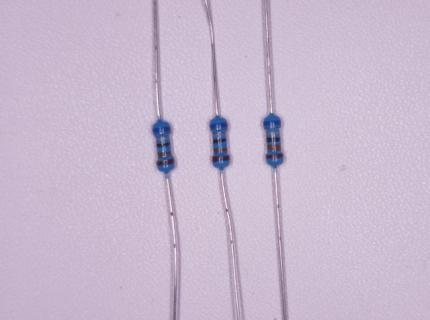Black band: (157, 142, 171, 148), (212, 138, 226, 143), (267, 137, 280, 142)
Blue band: (153, 125, 170, 132), (263, 120, 281, 125), (210, 123, 227, 128)
Brown band: (157, 157, 174, 165), (212, 155, 230, 162), (266, 153, 284, 159)
Grey band: (157, 136, 170, 141), (267, 131, 280, 136), (213, 133, 226, 136)
Orange band: (158, 151, 171, 158), (214, 148, 227, 153), (267, 145, 280, 150)
